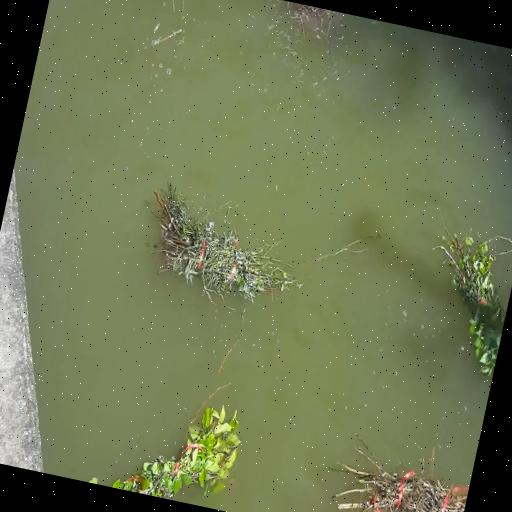twig: (155, 183, 301, 300), (112, 405, 240, 499), (433, 235, 506, 375), (330, 447, 468, 512)
